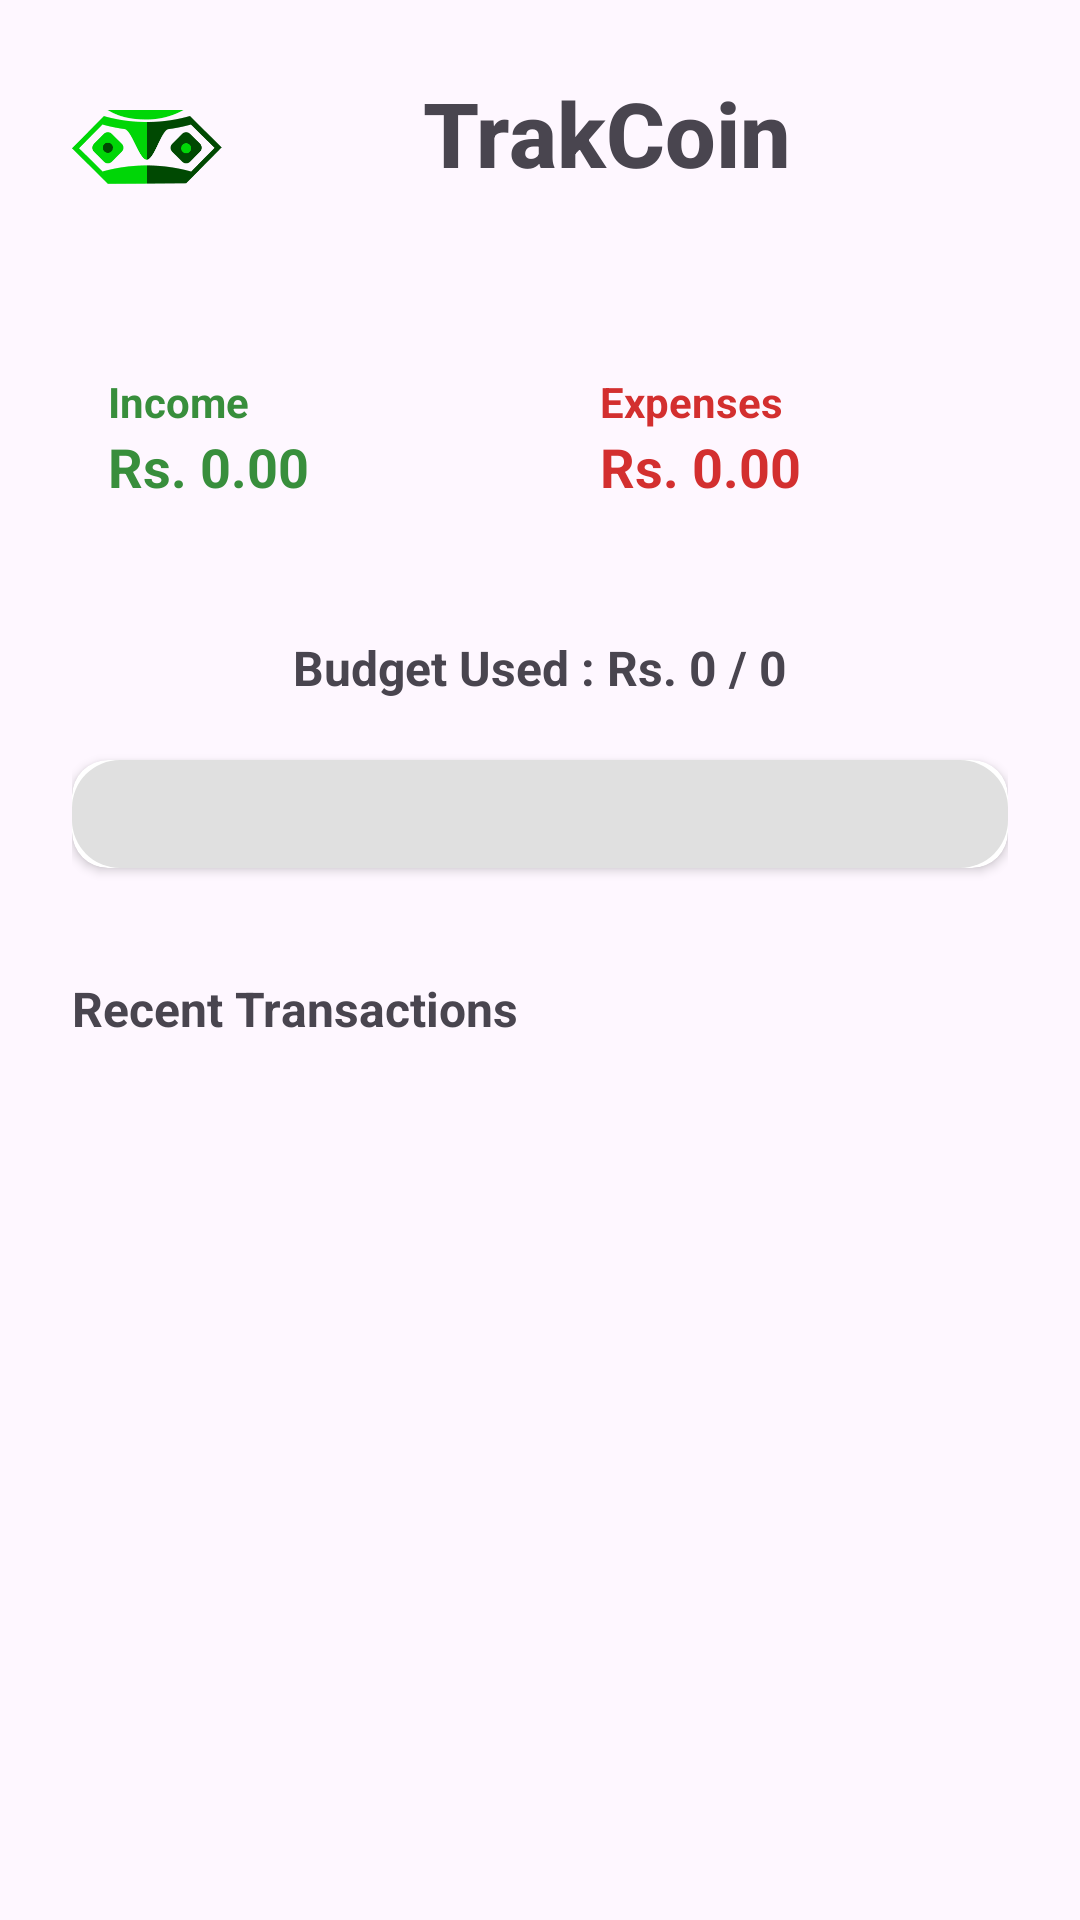

Screen size 1080*1920. Icon name, then its box in pixels as {"x1": x1, "y1": y1, "x2": x2, "y2": y2}:
App Icon: {"x1": 72, "y1": 110, "x2": 222, "y2": 184}
